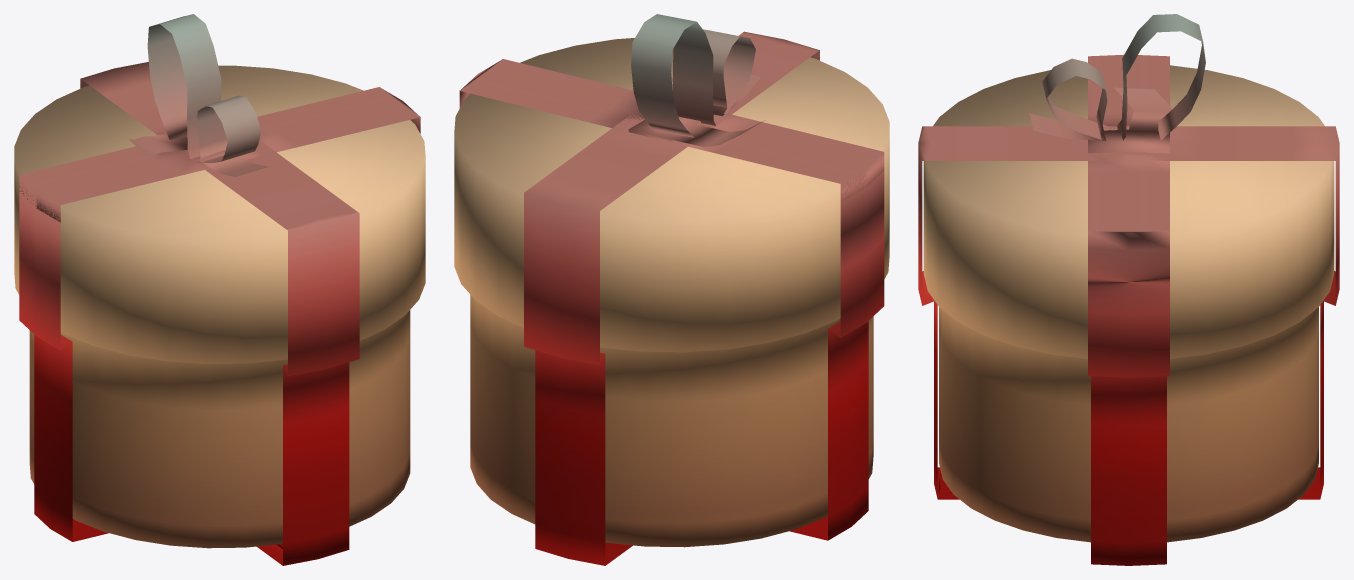
The model's file is Geschenk_5.fbx.
The picture shows the model from 3 angles, left to right: view 1: azimuth 30°, elevation 25°; view 2: azimuth 150°, elevation 25°; view 3: azimuth 270°, elevation 25°; orthographic projection. The views are drawn at different scales.
Parts seen in each view (by area): view 1: Cylinder.001; view 2: Cylinder.001; view 3: Cylinder.001.
Part boxes in pixels (<box>): Cylinder.001: <box>14,14,425,565</box>; Cylinder.001: <box>454,14,889,565</box>; Cylinder.001: <box>918,14,1339,565</box>.
Bounding box in the file's own units: 222 × 263 × 222.
